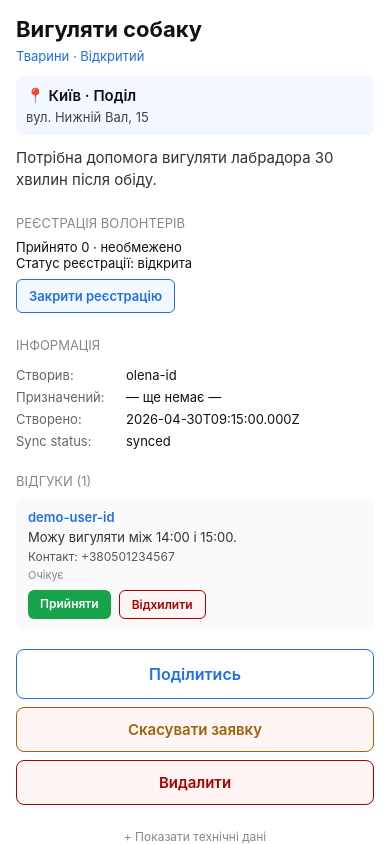
Phase 5 — accept flow › ACC2: pressing "Прийняти" updates the response status to accepted
This screenshot has width=390, height=844.
Click the element with test id "response-accept-res-1" at (69, 604), box left=28, top=590, right=111, bottom=619
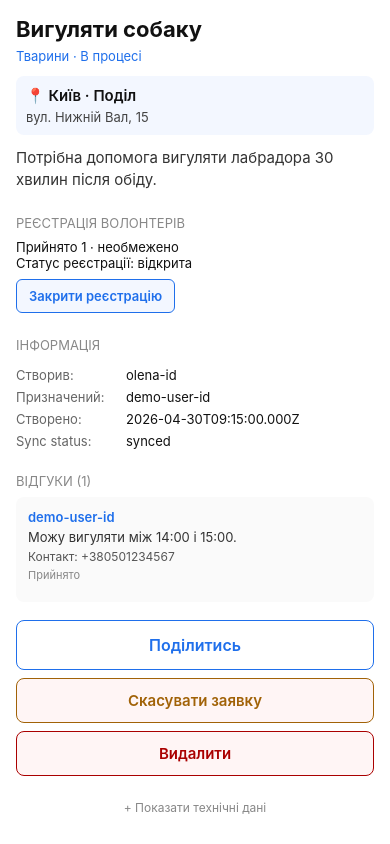
Expected: the text with test id "request-detail-slots-counter" reads "Прийнято 1 · необмежено", left=16, top=239, right=179, bottom=255
